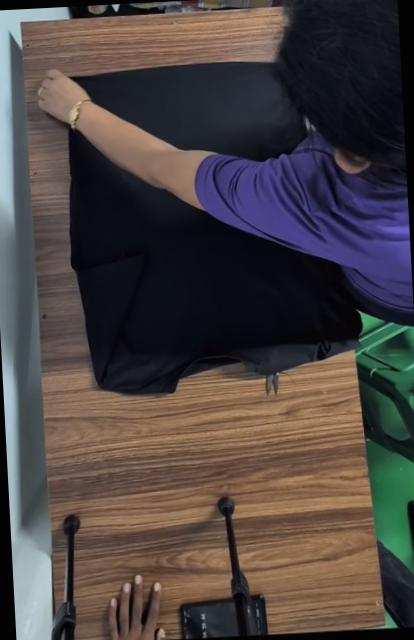new-garment: (68, 132, 359, 394), (78, 62, 304, 162)
